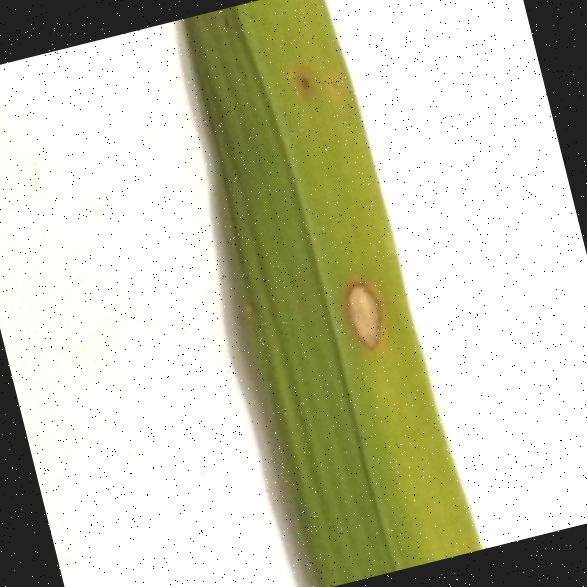Leaf_smut: (324, 260, 398, 358)
